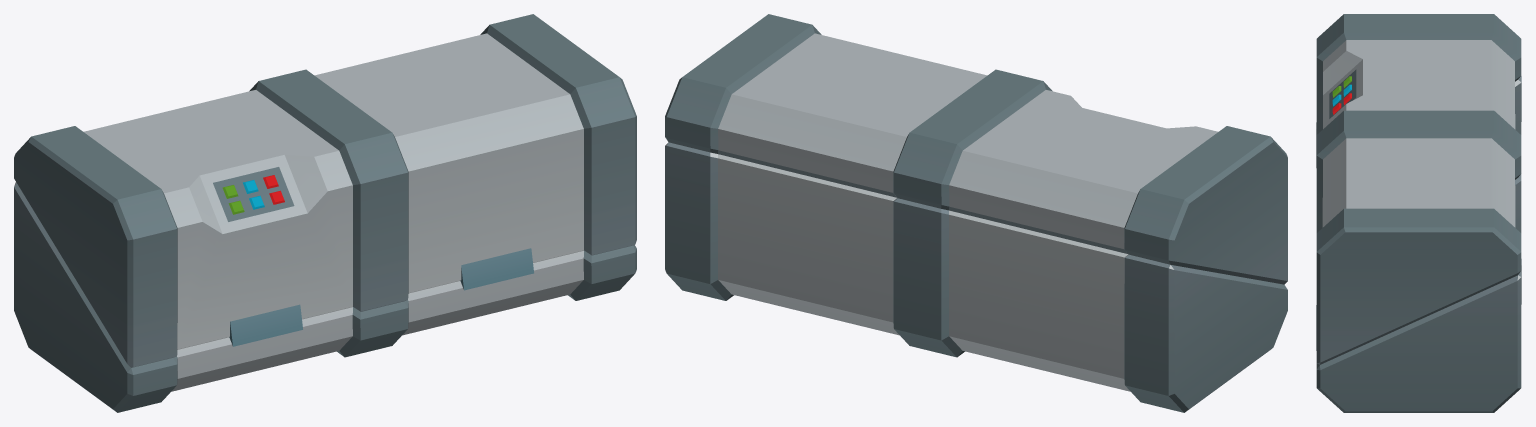
The model's file is Crate_011.glb.
3 renders of one model, left to right at view 1: azimuth 30°, elevation 25°; view 2: azimuth 150°, elevation 25°; view 3: azimuth 270°, elevation 25°, orthographic. The views are drawn at different scales.
Visible parts, largest first — view 1: Crate_011; view 2: Crate_011; view 3: Crate_011.
Boxes of the visible parts, box(x1,y1,x2,y2) form: Crate_011: box(14, 14, 636, 412); Crate_011: box(665, 14, 1287, 412); Crate_011: box(1316, 14, 1521, 412).
Bounding box in the file's own units: 1.2 × 0.4784 × 0.4788.
2 materials, 2 textured.
